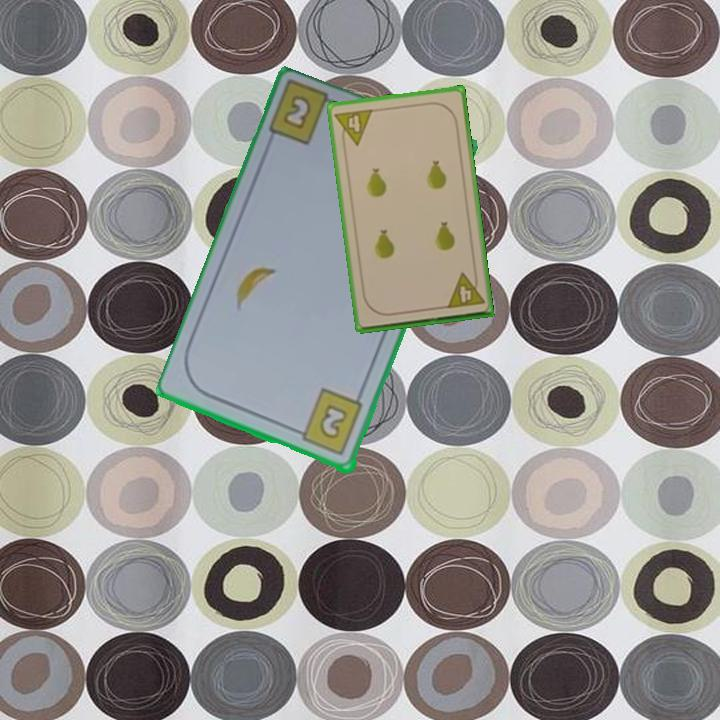2b: (290, 386, 366, 459), (279, 92, 315, 133)
4p: (331, 105, 376, 149), (443, 268, 487, 311)
